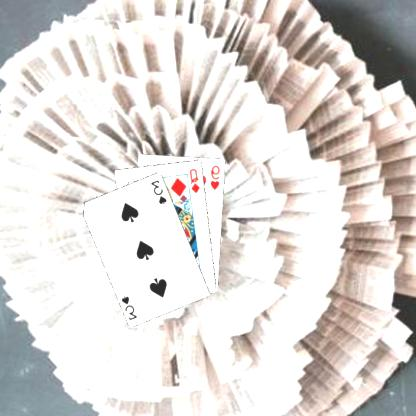3S: (150, 177, 170, 205), (121, 293, 140, 322)
9H: (210, 162, 223, 191)
QD: (188, 166, 204, 194)
